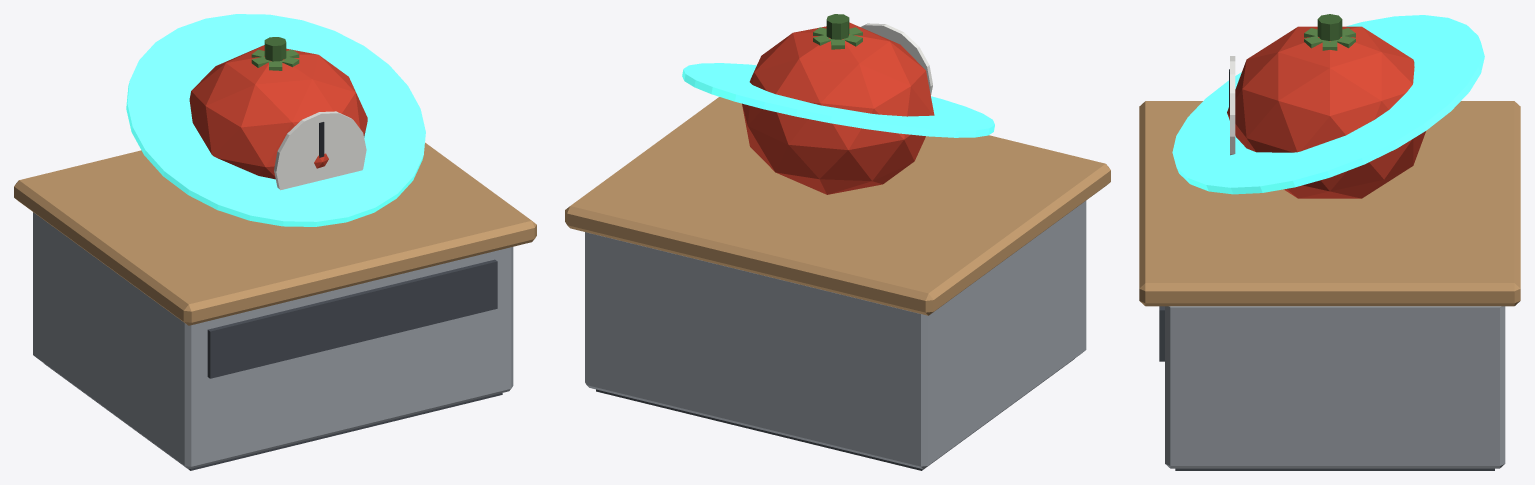
File: pomodoro_p0_4.glb
3 renders of one model, left to right at view 1: azimuth 30°, elevation 25°; view 2: azimuth 150°, elevation 25°; view 3: azimuth 270°, elevation 25°, orthographic. The views are drawn at different scales.
Parts seen in each view (by area): view 1: pomodoro_p0_4_mesh_Desk, pomodoro_p0_4_mesh; view 2: pomodoro_p0_4_mesh_Desk, pomodoro_p0_4_mesh; view 3: pomodoro_p0_4_mesh_Desk, pomodoro_p0_4_mesh.
Part boxes in pixels (x1,y1,x2,y2): pomodoro_p0_4_mesh_Desk: [14, 142, 536, 470]; pomodoro_p0_4_mesh: [126, 14, 425, 226]; pomodoro_p0_4_mesh_Desk: [565, 97, 1110, 470]; pomodoro_p0_4_mesh: [682, 14, 994, 194]; pomodoro_p0_4_mesh_Desk: [1139, 101, 1520, 470]; pomodoro_p0_4_mesh: [1172, 14, 1484, 198].
Bounding box in the file's own units: 0.86 × 0.79 × 0.74.
